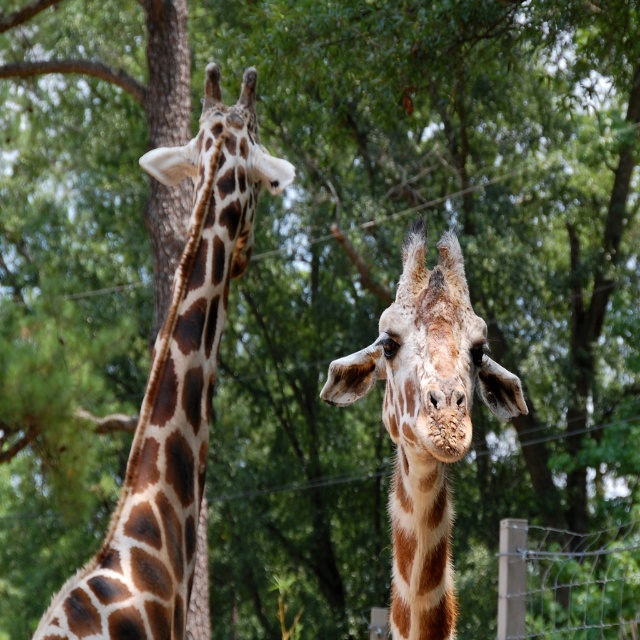Giraffe: (32, 61, 298, 639), (320, 210, 529, 639)
